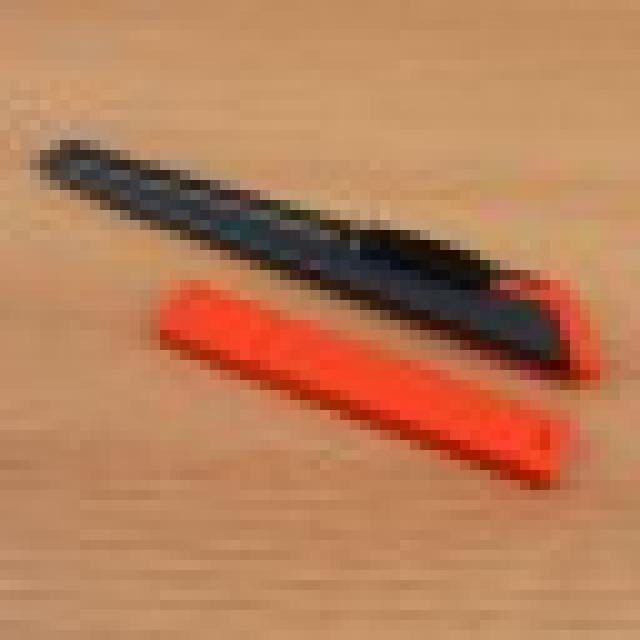cutter: (36, 129, 600, 390)
